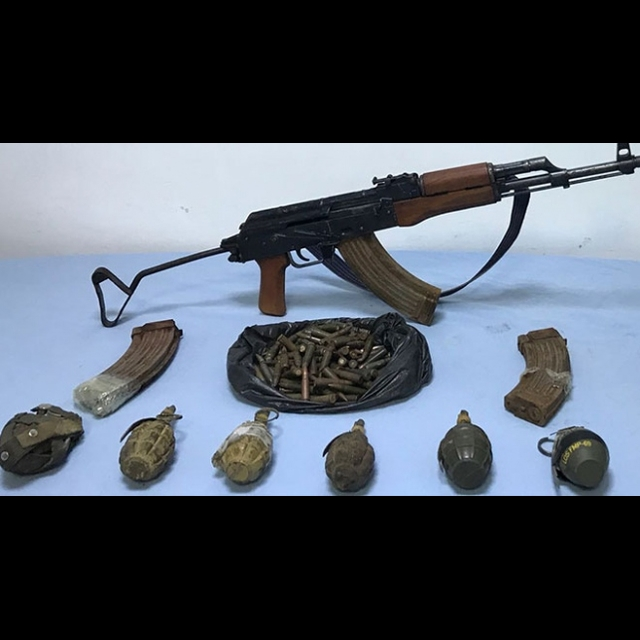AK47: (219, 141, 640, 324)
